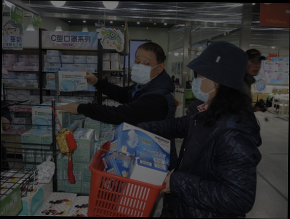with_mask: (130, 54, 159, 86), (191, 71, 213, 104)
without_mask: (246, 58, 262, 77)
